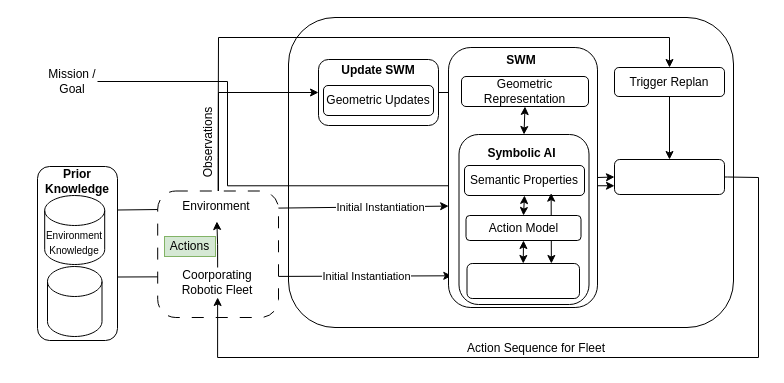
The diagram is 784 pixels wide and 383 high, and some of its shapes have lost their labels. The shapes that lost their labels are listed below. From the top down, each one's centre as x and y in pixels, then its label:
[669,176]: Custom methods for activity planning
[523,280]: Automated Reasoners
[74,301]: Fleet Capabilites
